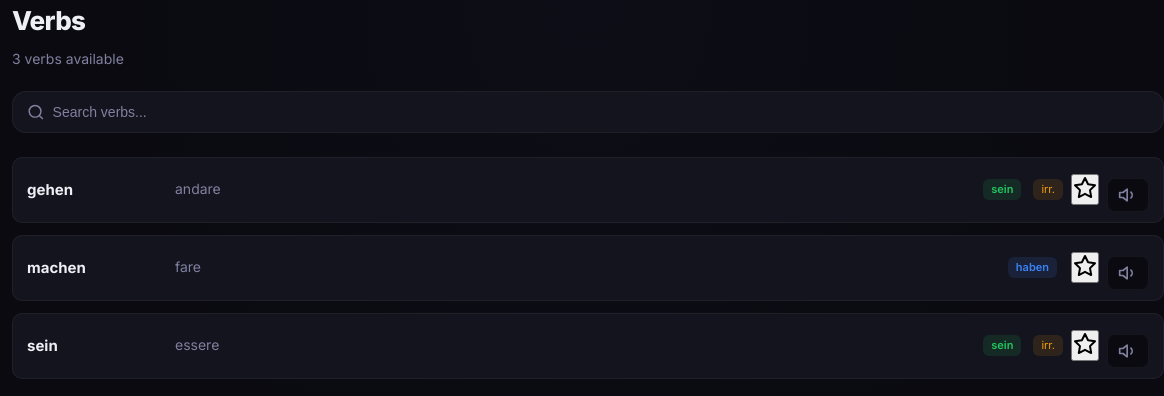
Test: VerbsPage › Verb List View › filters verbs by search
This screenshot has width=1164, height=396.
Step 1. Type "geh" into the field with placeholder "Search verbs..." → (601, 112), box [53,104,1149,120]
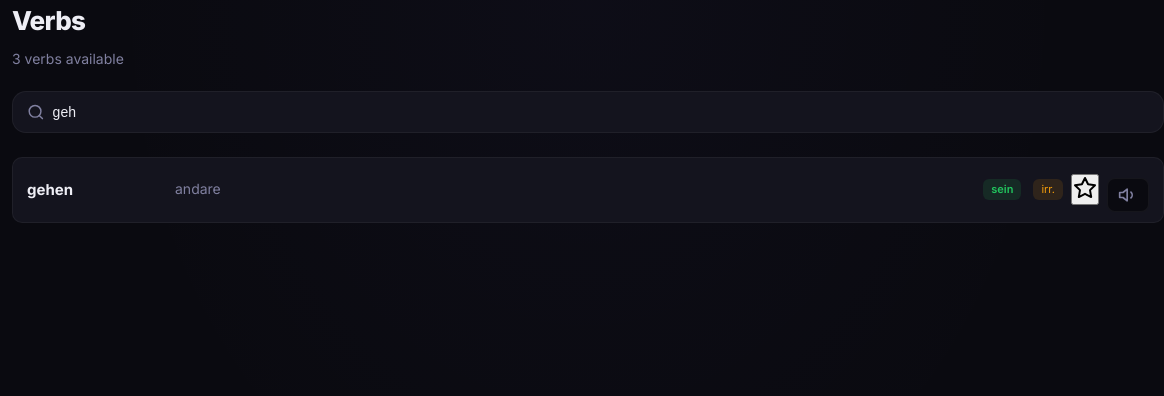
Expected: the text "gehen" is shown, [27,180,73,199]
Expected: the text "machen" is gone
